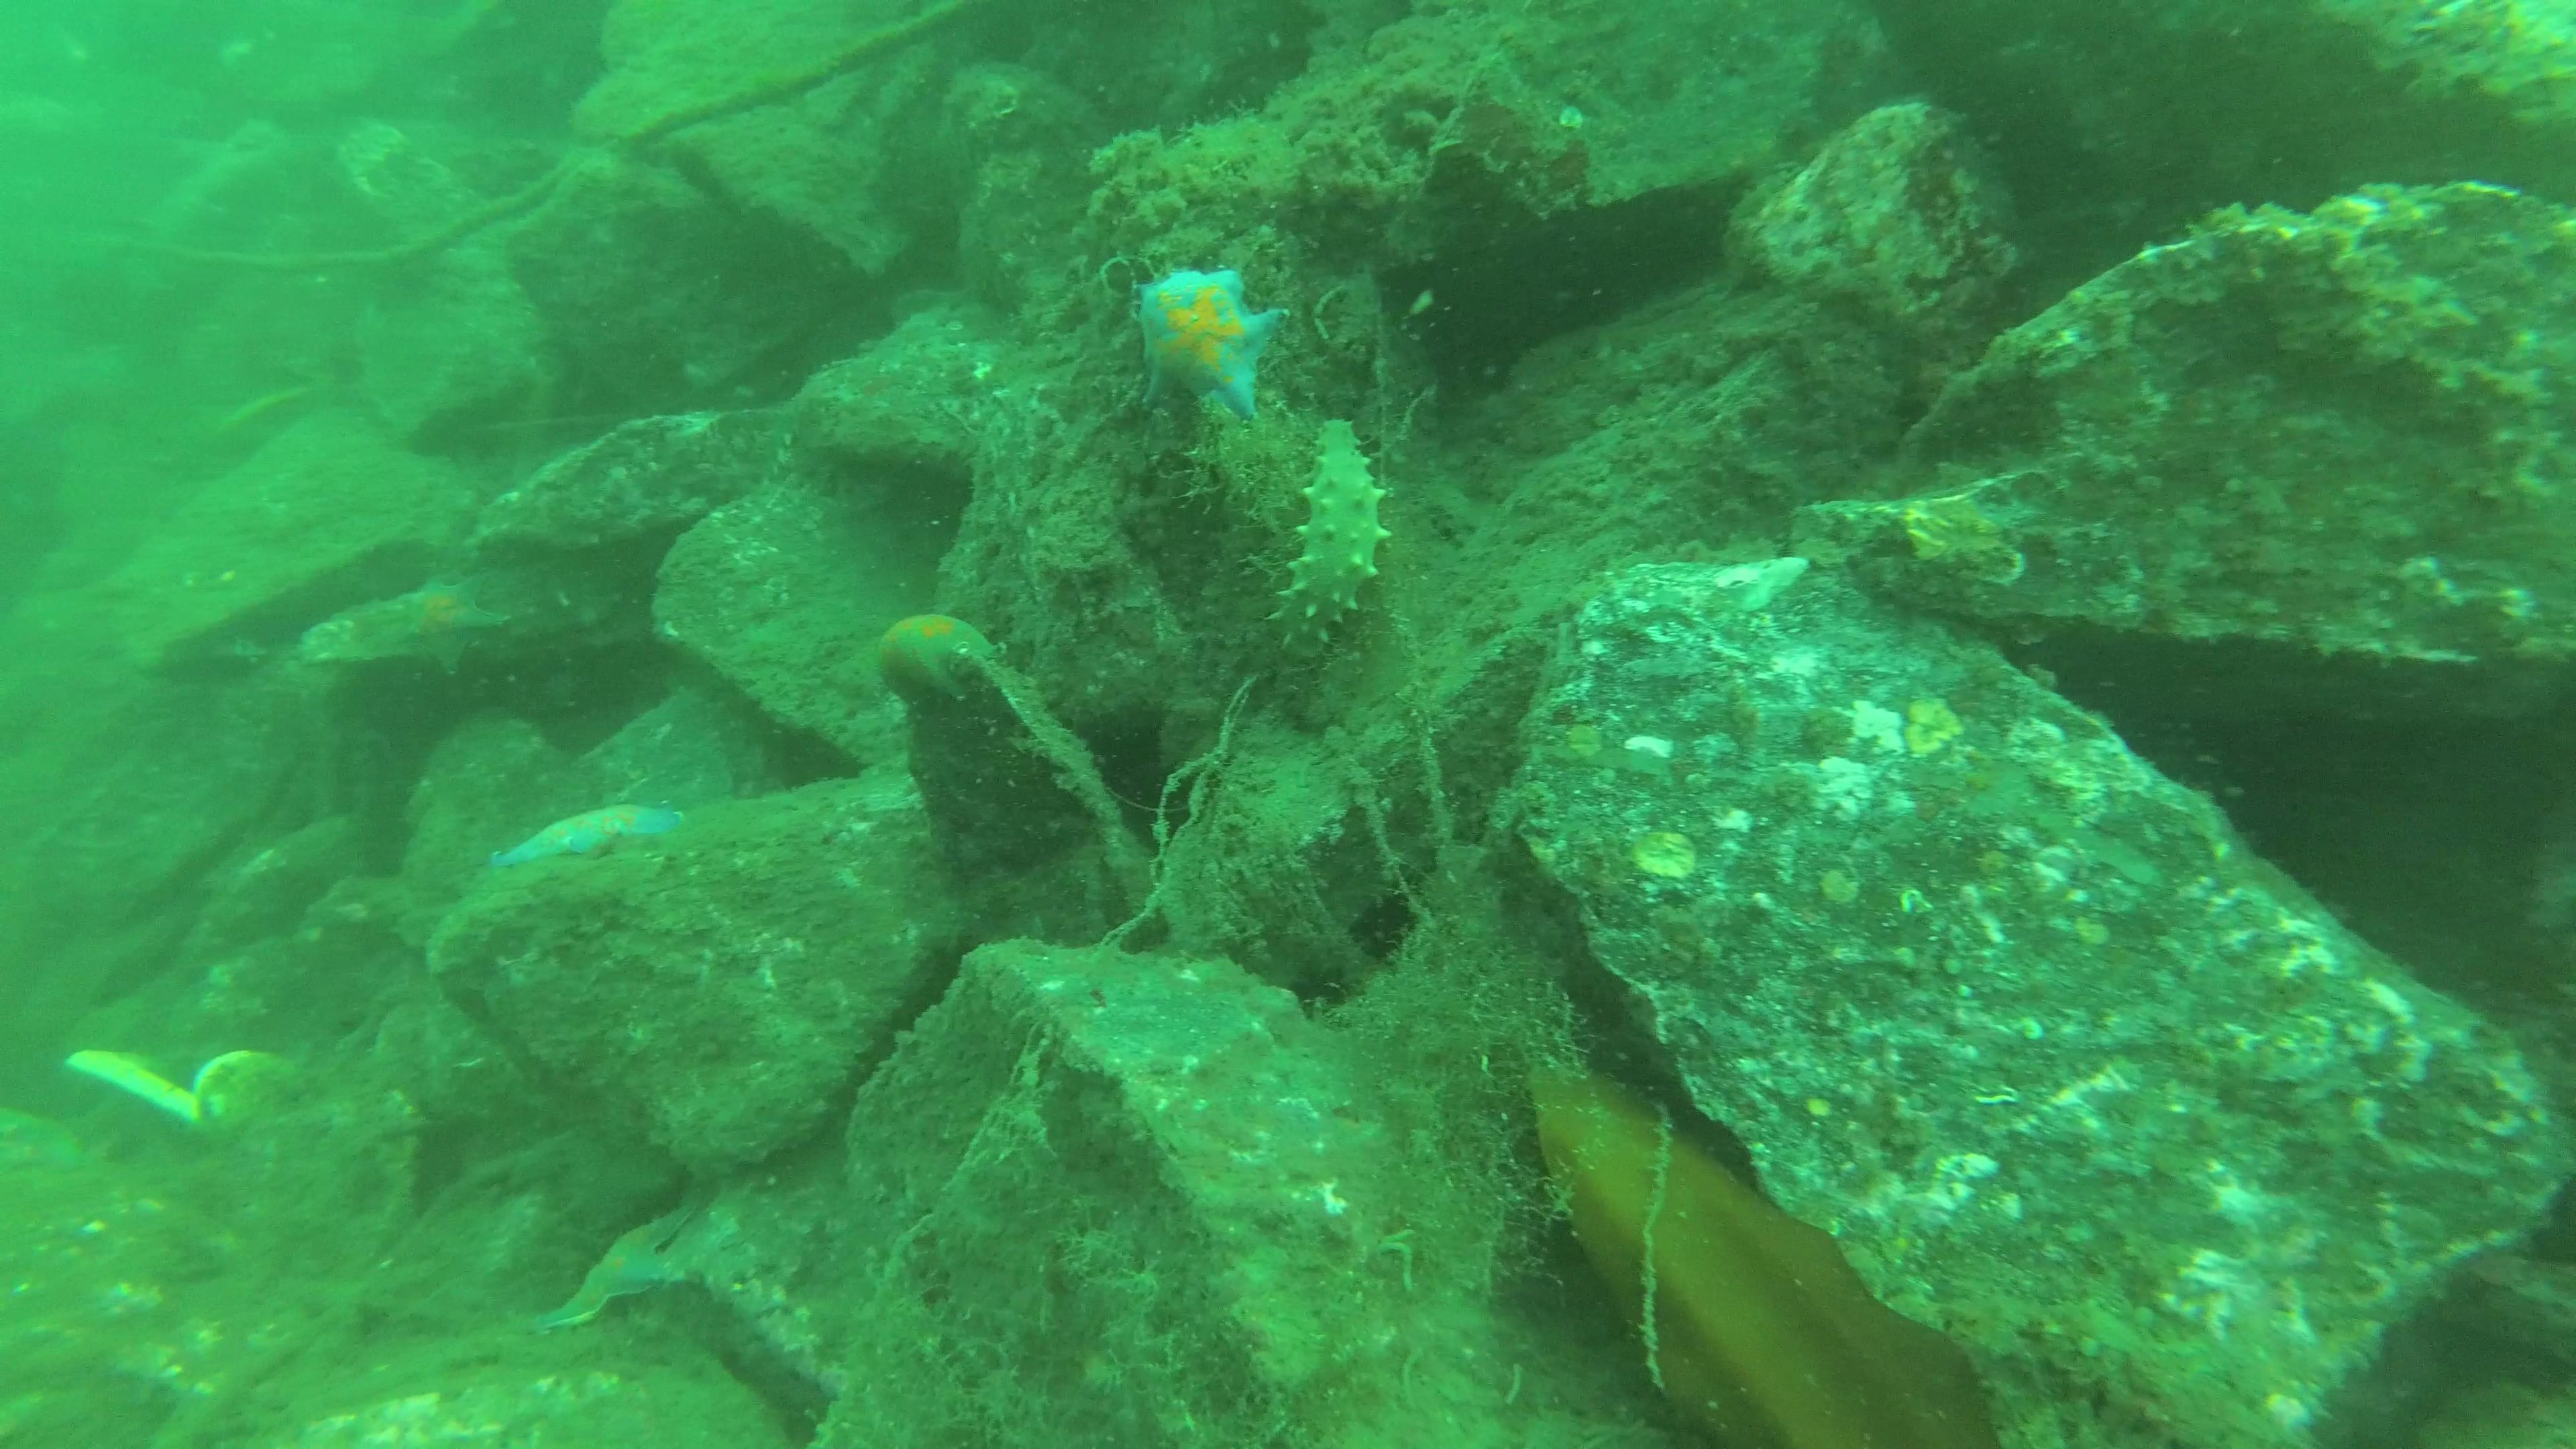holothurian: (1265, 418, 1392, 651)
starfish: (1138, 269, 1292, 430), (529, 1201, 702, 1334), (387, 573, 511, 681), (490, 805, 686, 872), (878, 614, 1010, 706)
